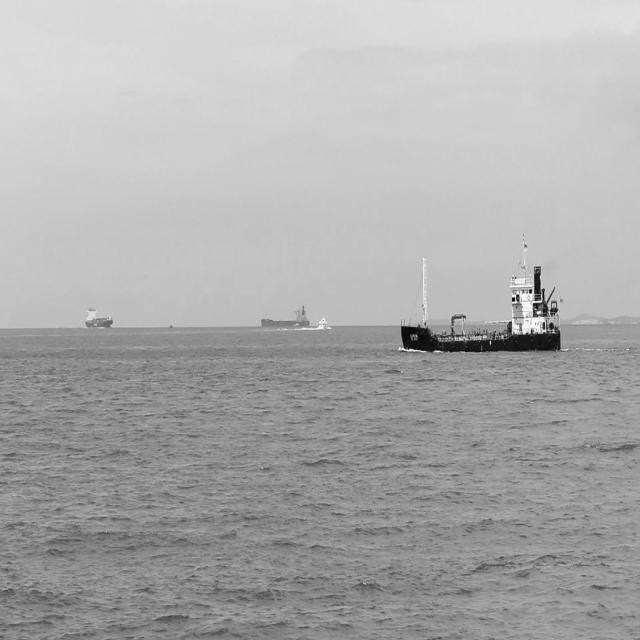ship: (397, 231, 564, 355), (260, 298, 311, 332), (83, 301, 115, 329), (316, 312, 331, 332)
